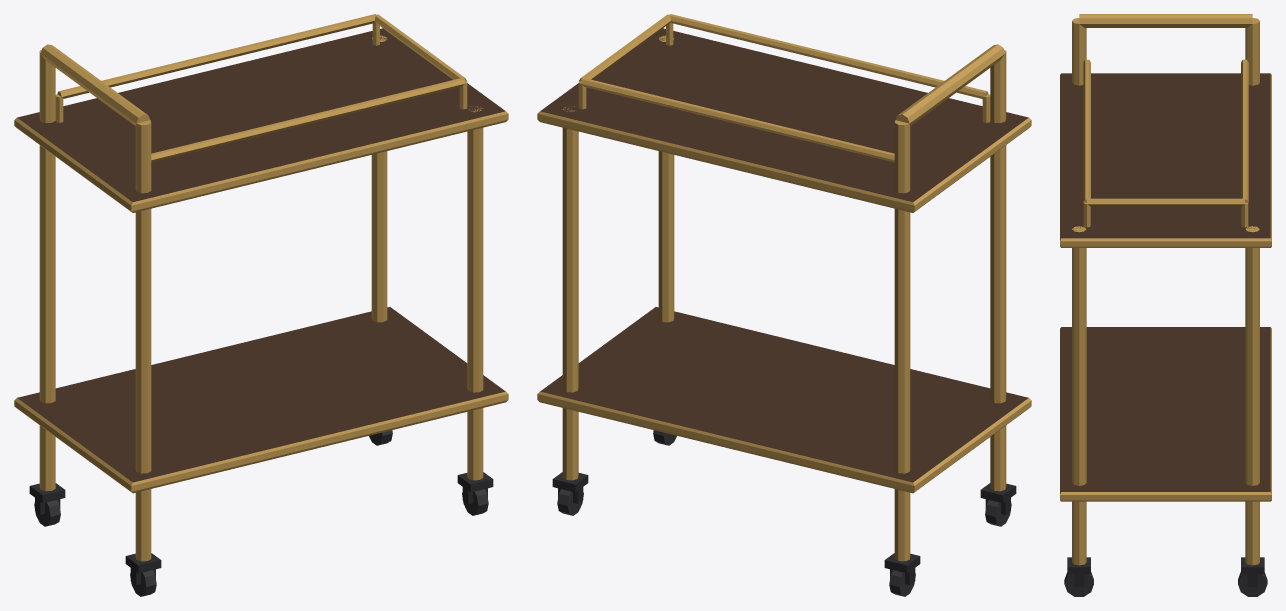
The model's file is FN_Cart_Bar.glb.
The picture shows the model from 3 angles, left to right: view 1: azimuth 30°, elevation 25°; view 2: azimuth 150°, elevation 25°; view 3: azimuth 270°, elevation 25°; orthographic projection. The views are drawn at different scales.
Parts seen in each view (by area): view 1: FN_Cart_Bar; view 2: FN_Cart_Bar; view 3: FN_Cart_Bar.
Part boxes in pixels (box(x1,y1,x2,y2)): FN_Cart_Bar: box(14, 14, 508, 596); FN_Cart_Bar: box(537, 14, 1031, 596); FN_Cart_Bar: box(1060, 14, 1271, 596).
Bounding box in the file's own units: 0.8 × 0.9715 × 0.43.
Materials: 1 (1 with a texture image).
